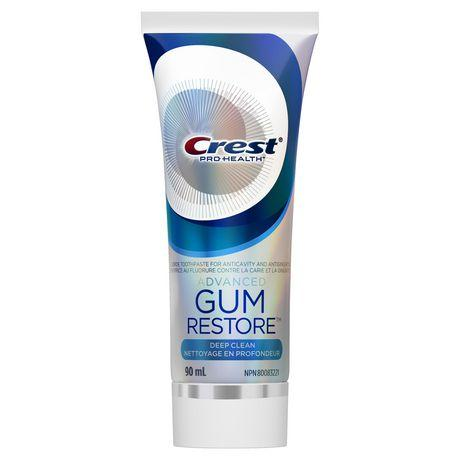toothpaste: (122, 2, 333, 456)
